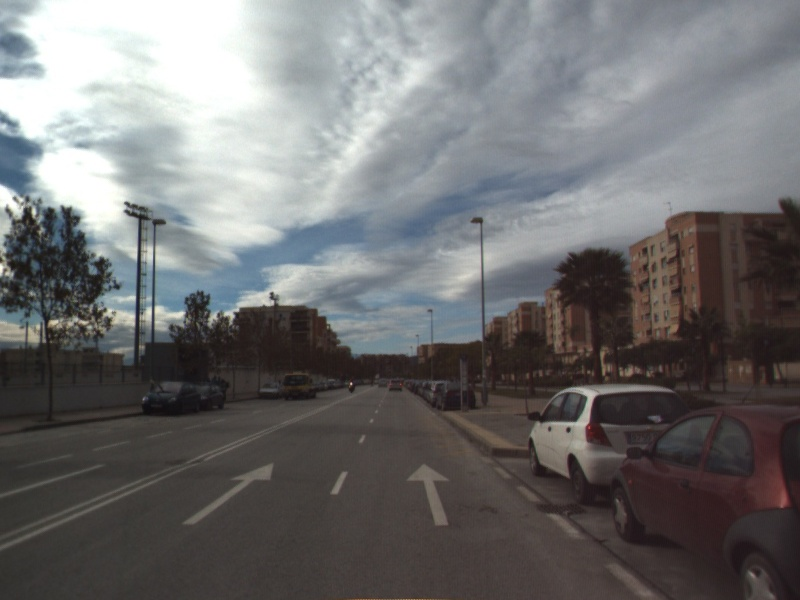STRAIGHT: (180, 461, 275, 527), (404, 462, 453, 527)
